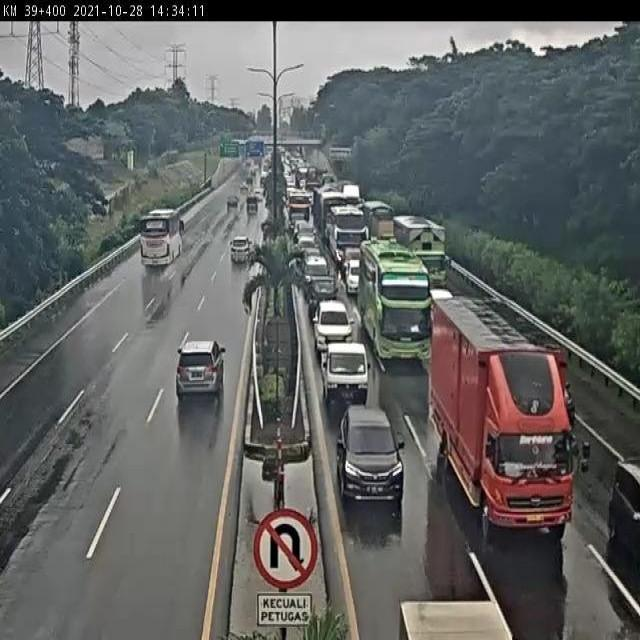bus-l-: (360, 241, 438, 360), (139, 208, 183, 269), (330, 208, 366, 265)
car: (338, 403, 406, 504), (530, 349, 576, 423), (322, 340, 365, 392), (315, 303, 354, 341), (304, 272, 337, 307), (230, 234, 253, 266), (303, 250, 328, 270), (297, 234, 317, 258)
truck-l-: (429, 298, 578, 542), (392, 216, 453, 292)
